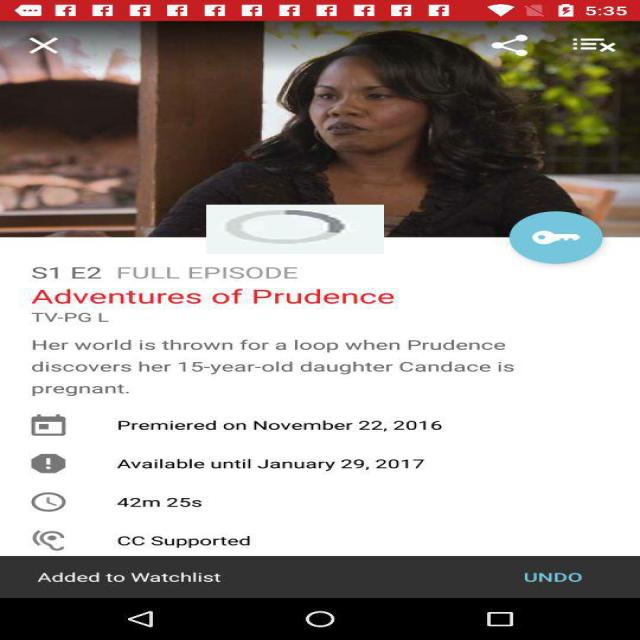misdirection: (206, 205, 384, 254)
